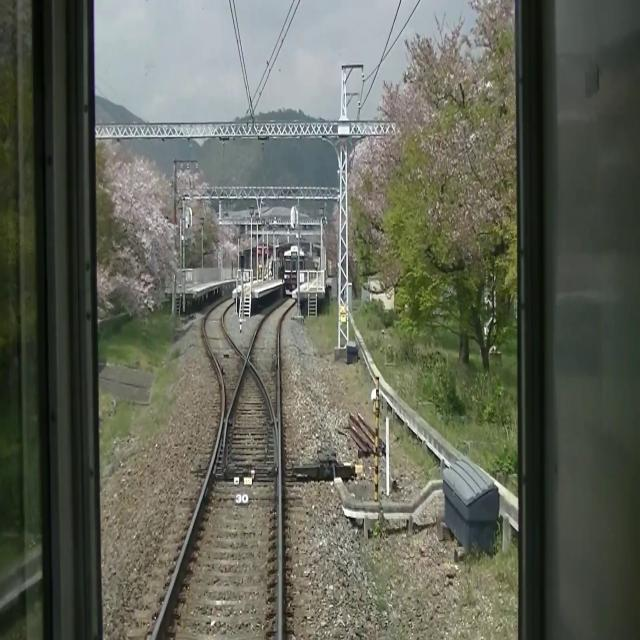rail-track: (172, 364, 277, 639), (249, 296, 293, 416), (204, 297, 244, 415)
